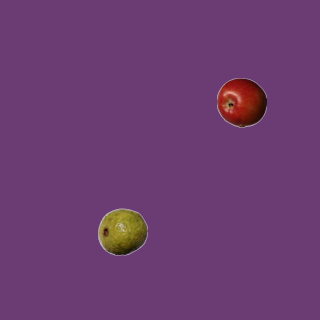Apple Braeburn: (216, 77, 266, 127)
Guava: (97, 206, 147, 256)
